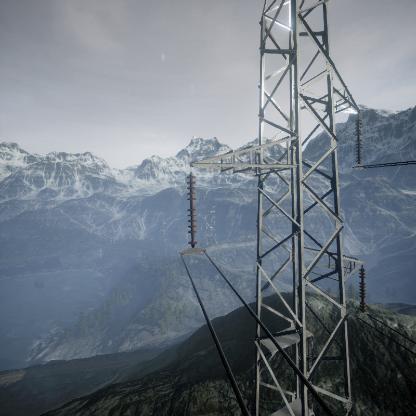insulator: (183, 171, 200, 248), (353, 117, 365, 165), (357, 261, 368, 310)
